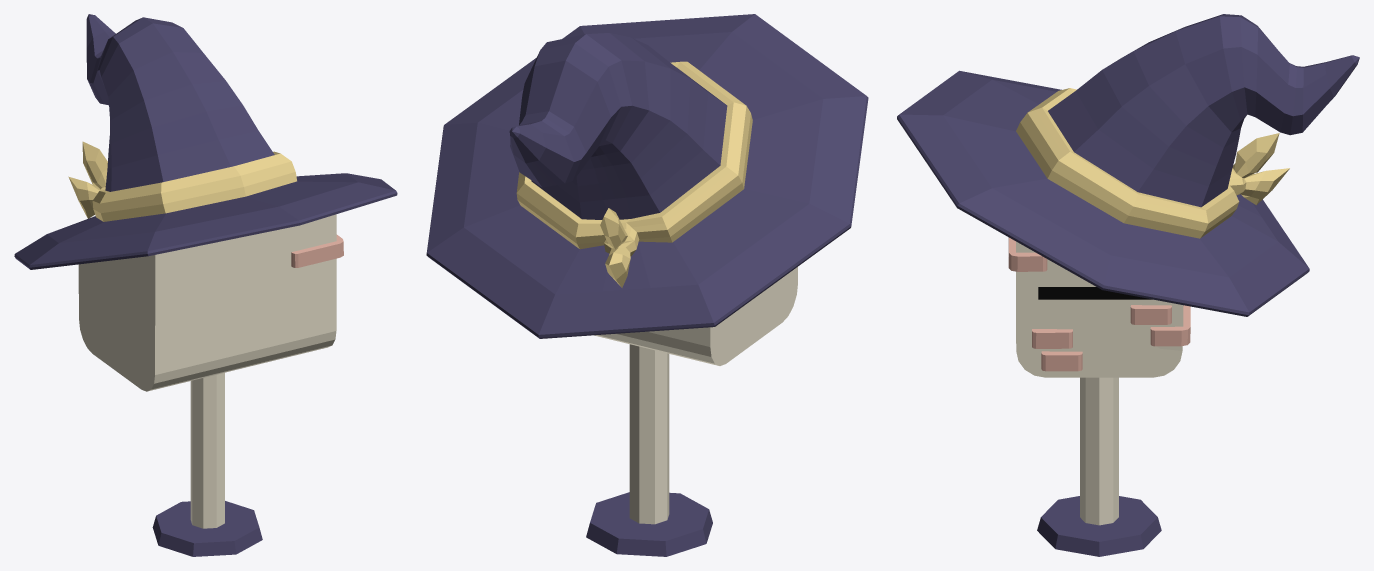
Rendered from Letterbox1b.fbx.
The picture shows the model from 3 angles, left to right: view 1: azimuth 30°, elevation 25°; view 2: azimuth 150°, elevation 25°; view 3: azimuth 270°, elevation 25°; orthographic projection. The views are drawn at different scales.
Visible parts, largest first — view 1: Cube; view 2: Cube; view 3: Cube.
Part boxes in pixels (<box>): Cube: <box>14,14,397,556</box>; Cube: <box>426,14,868,556</box>; Cube: <box>897,14,1359,556</box>.
Bounding box in the file's own units: 603 × 766 × 625.
